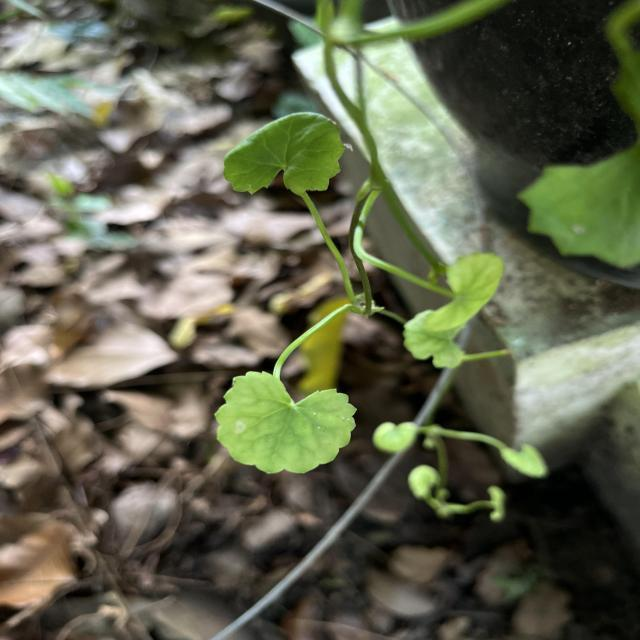Centella asiatica: (212, 368, 360, 476), (220, 108, 348, 200)
